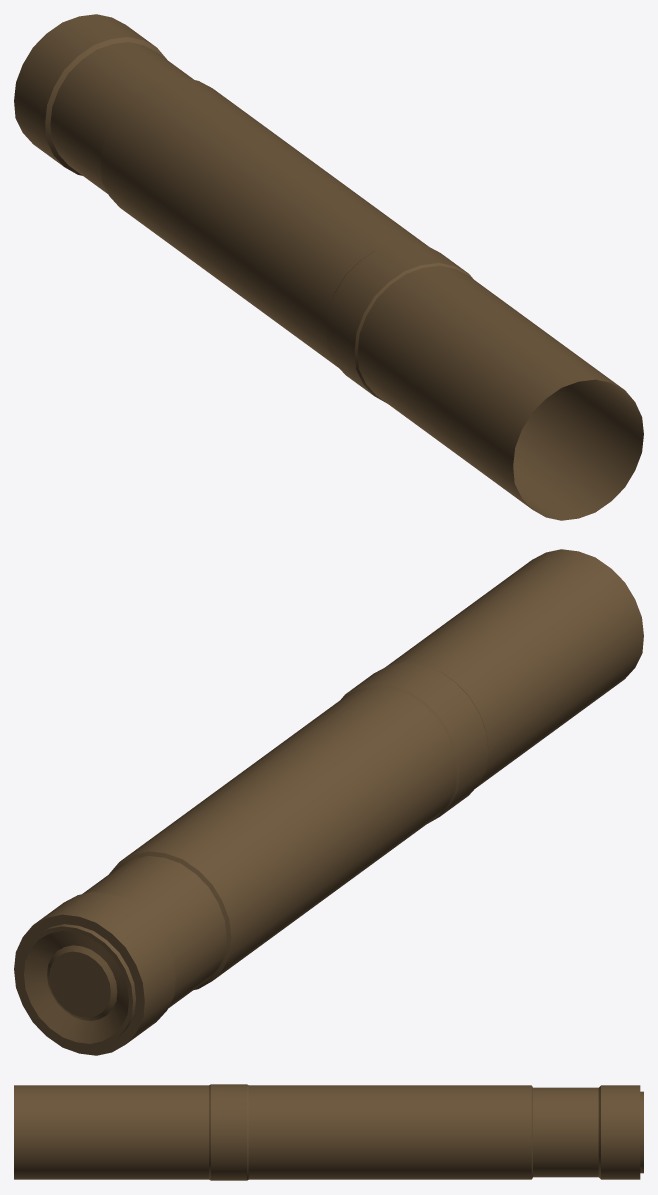
Rendered from buoy_shell.FBX.
The picture shows the model from 3 angles, top to bottom: view 1: azimuth 30°, elevation 25°; view 2: azimuth 150°, elevation 25°; view 3: azimuth 270°, elevation 25°; orthographic projection. The views are drawn at different scales.
Visible parts, largest first — view 1: shell_02, shell_03, shell_01, shell_00; view 2: shell_02, shell_03, shell_01, shell_00; view 3: shell_01, shell_00, shell_02.
Part boxes in pixels (x1=…): shell_02: x1=14, y1=16, x2=578, y2=465; shell_03: x1=14, y1=101, x2=577, y2=520; shell_01: x1=80, y1=14, x2=643, y2=433; shell_00: x1=513, y1=383, x2=643, y2=518; shell_02: x1=76, y1=551, x2=643, y2=1000; shell_03: x1=76, y1=636, x2=643, y2=1055; shell_01: x1=14, y1=549, x2=577, y2=984; shell_00: x1=14, y1=969, x2=81, y2=1053; shell_01: x1=14, y1=1088, x2=643, y2=1152; shell_00: x1=14, y1=1150, x2=643, y2=1180; shell_02: x1=14, y1=1084, x2=643, y2=1095.
Size of the model in its own units: 0.1938 by 1.26 by 0.1938.
